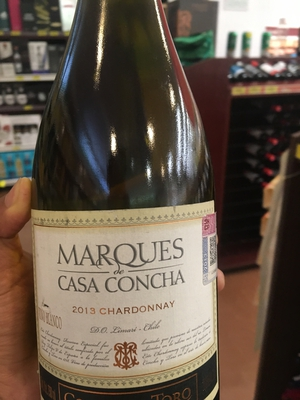marques de casa concha chardonnay: (31, 25, 221, 400)
